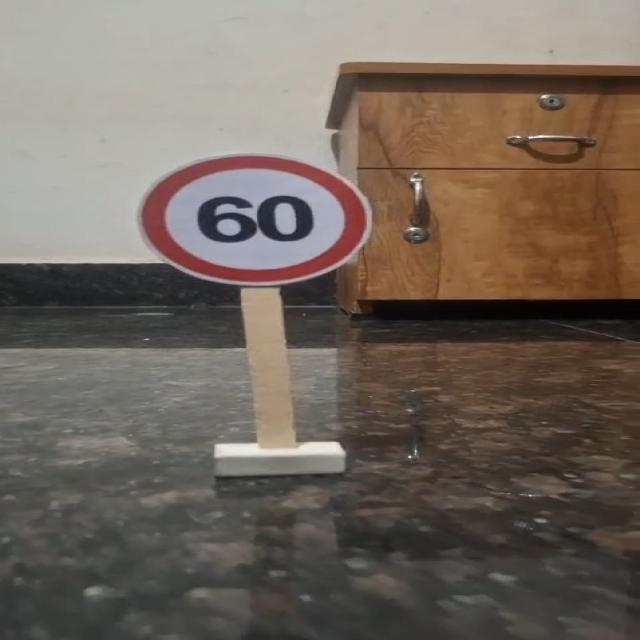Speed60: (121, 148, 383, 292)
